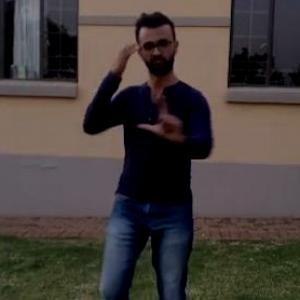land_hand: (139, 88, 188, 144)
